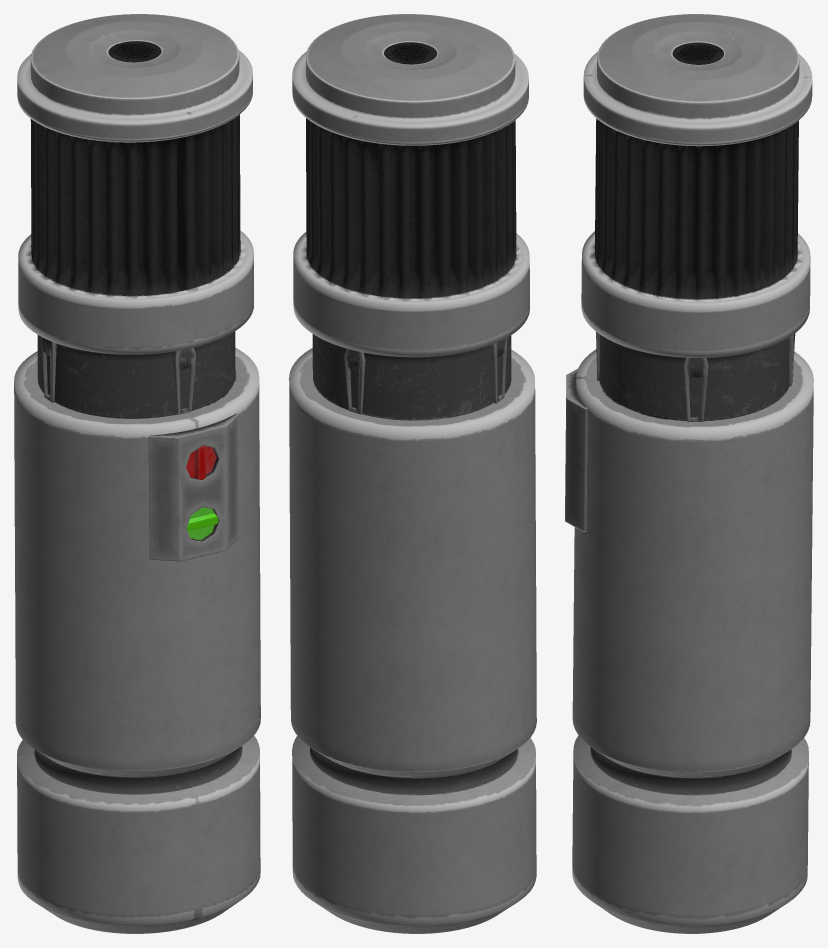
The model's file is Device_1.fbx.
3 renders of one model, left to right at view 1: azimuth 30°, elevation 25°; view 2: azimuth 150°, elevation 25°; view 3: azimuth 270°, elevation 25°, orthographic.
Visible parts, largest first — view 1: defaultMaterial.003; view 2: defaultMaterial.003; view 3: defaultMaterial.003.
Boxes of the visible parts, bbox=[...] form: defaultMaterial.003: bbox=[14, 14, 260, 933]; defaultMaterial.003: bbox=[289, 14, 536, 933]; defaultMaterial.003: bbox=[565, 14, 813, 933].
Bounding box in the file's own units: 53.1 × 200 × 53.43.
1 material, 1 textured.
